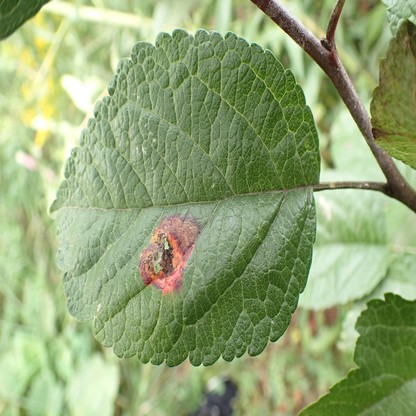rust: (140, 216, 200, 292)
scab: (370, 22, 415, 143)
